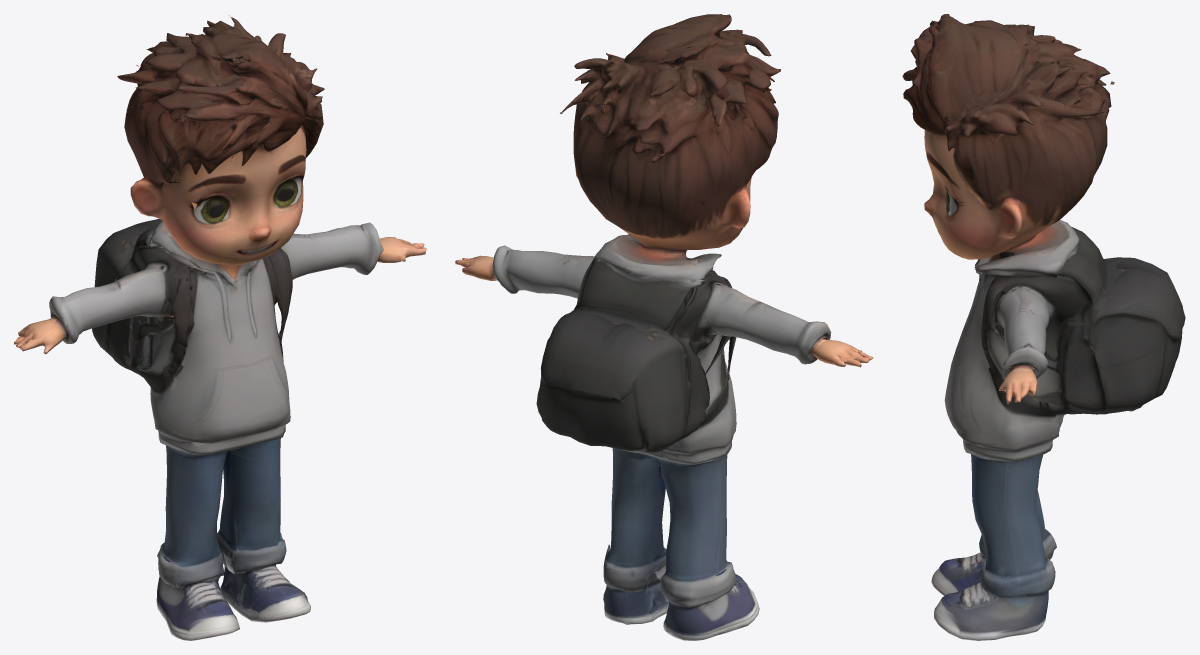
The model's file is personagem_estudante__0513180540_texture.glb.
3 renders of one model, left to right at view 1: azimuth 30°, elevation 25°; view 2: azimuth 150°, elevation 25°; view 3: azimuth 270°, elevation 25°, orthographic.
Size of the model in its own units: 1.45 by 1.98 by 0.8726.
1 material, 1 textured.
